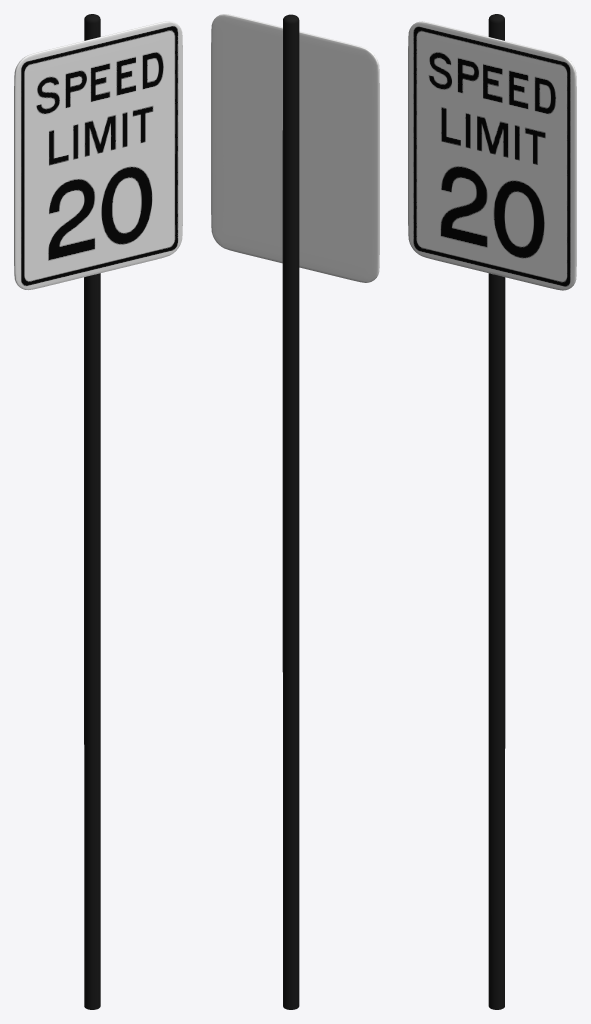
Rendered from SpeedLimitSign.fbx.
3 views of the same model, side by side, from view 1: azimuth 30°, elevation 25°; view 2: azimuth 150°, elevation 25°; view 3: azimuth 330°, elevation 25° (orthographic).
Visible parts, largest first — view 1: speedlimitsign_merged_mesh_result; view 2: speedlimitsign_merged_mesh_result; view 3: speedlimitsign_merged_mesh_result.
Boxes of the visible parts, box(x1,y1,x2,y2) form: speedlimitsign_merged_mesh_result: box(14, 14, 182, 1009); speedlimitsign_merged_mesh_result: box(211, 14, 379, 1009); speedlimitsign_merged_mesh_result: box(408, 14, 576, 1009).
Bounding box in the file's own units: 33.39 × 188 × 3.51.
Materials: 2 (2 with a texture image).
